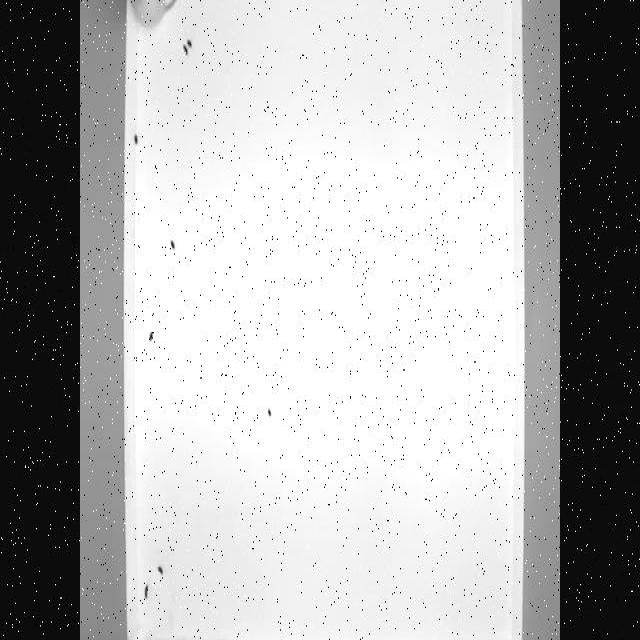rat: (127, 0, 181, 32)
